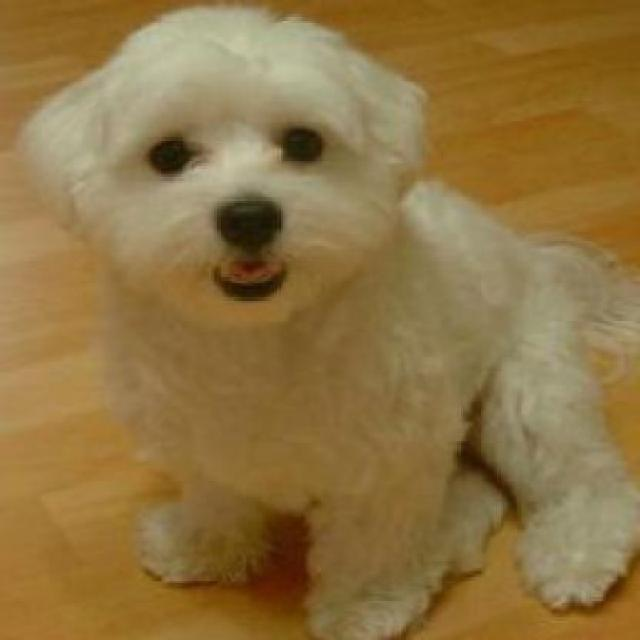Dog: (14, 0, 637, 637)
